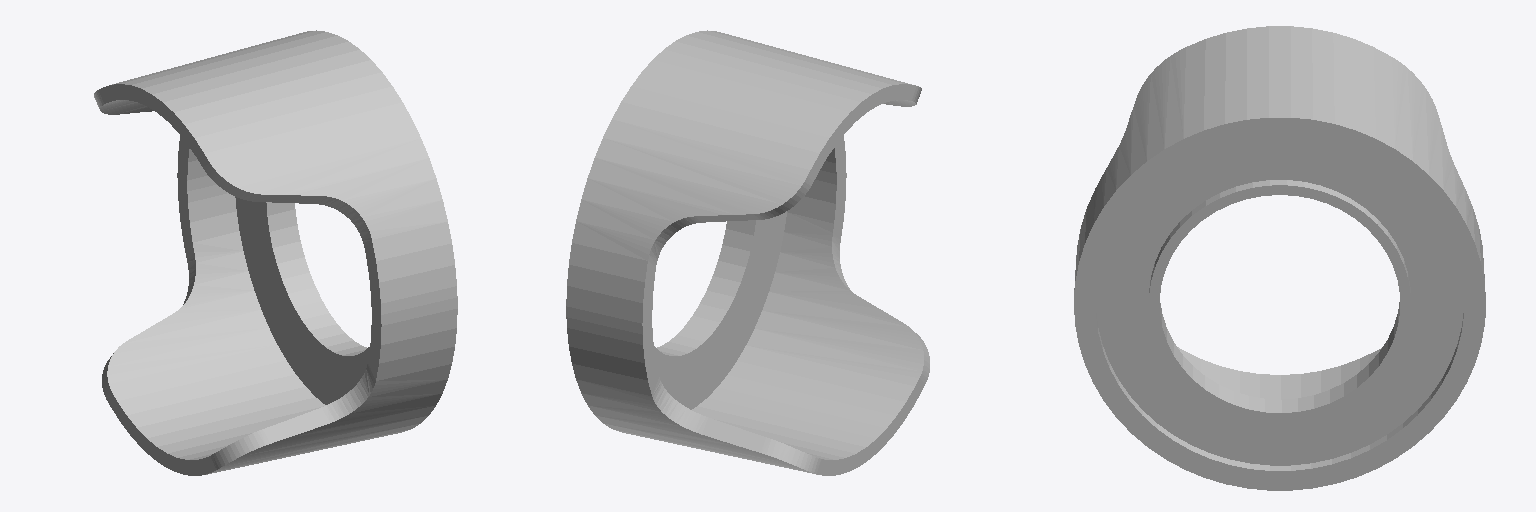
The model's file is torso_l3_7.obj.
3 renders of one model, left to right at view 1: azimuth 30°, elevation 25°; view 2: azimuth 150°, elevation 25°; view 3: azimuth 270°, elevation 25°, orthographic.
Bounding box in the file's own units: 0.021 × 0.0379 × 0.038.